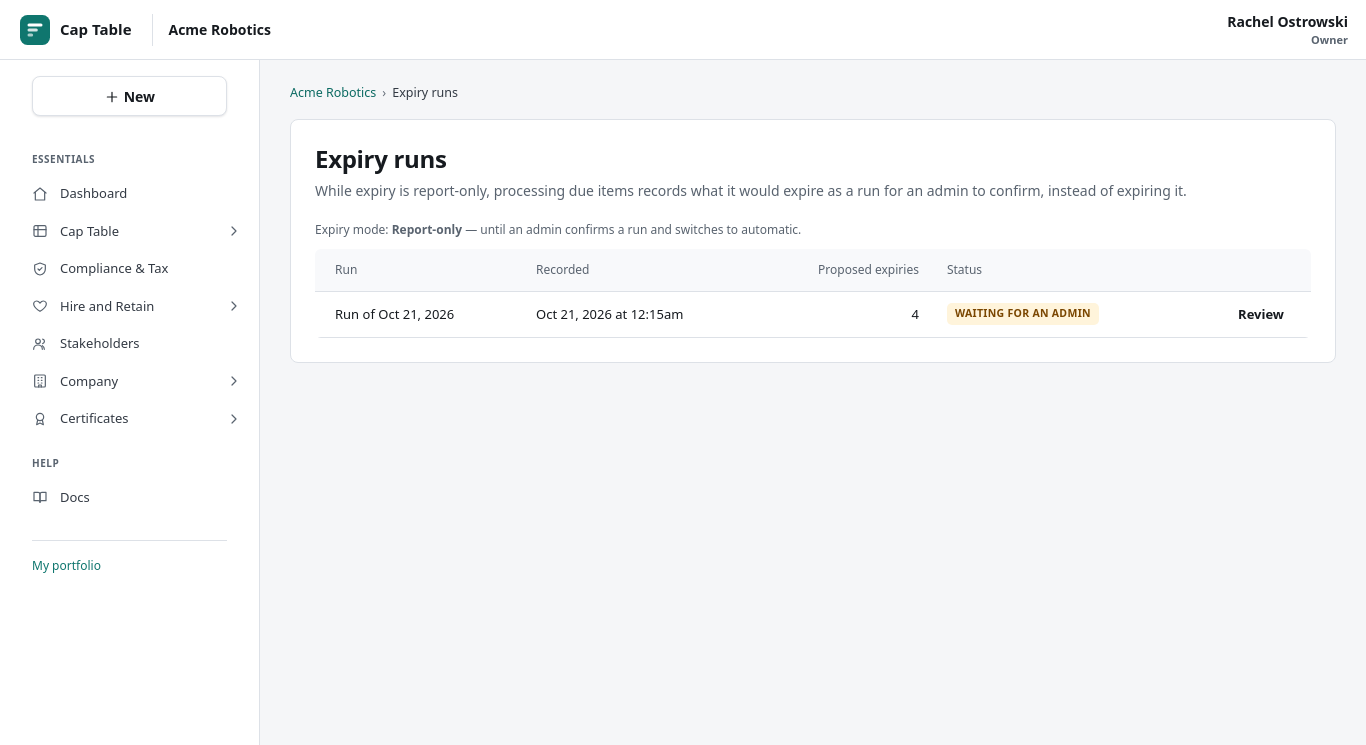
expiry runs: confirming a run › shows refusals that name securities on their rows, and leaves them out on request
The width and height of the screenshot is (1366, 745).
Click the button with aria-label "Review the run of Oct 21, 2026": (1261, 314) [1225,298,1297,330]
(page scrolled)
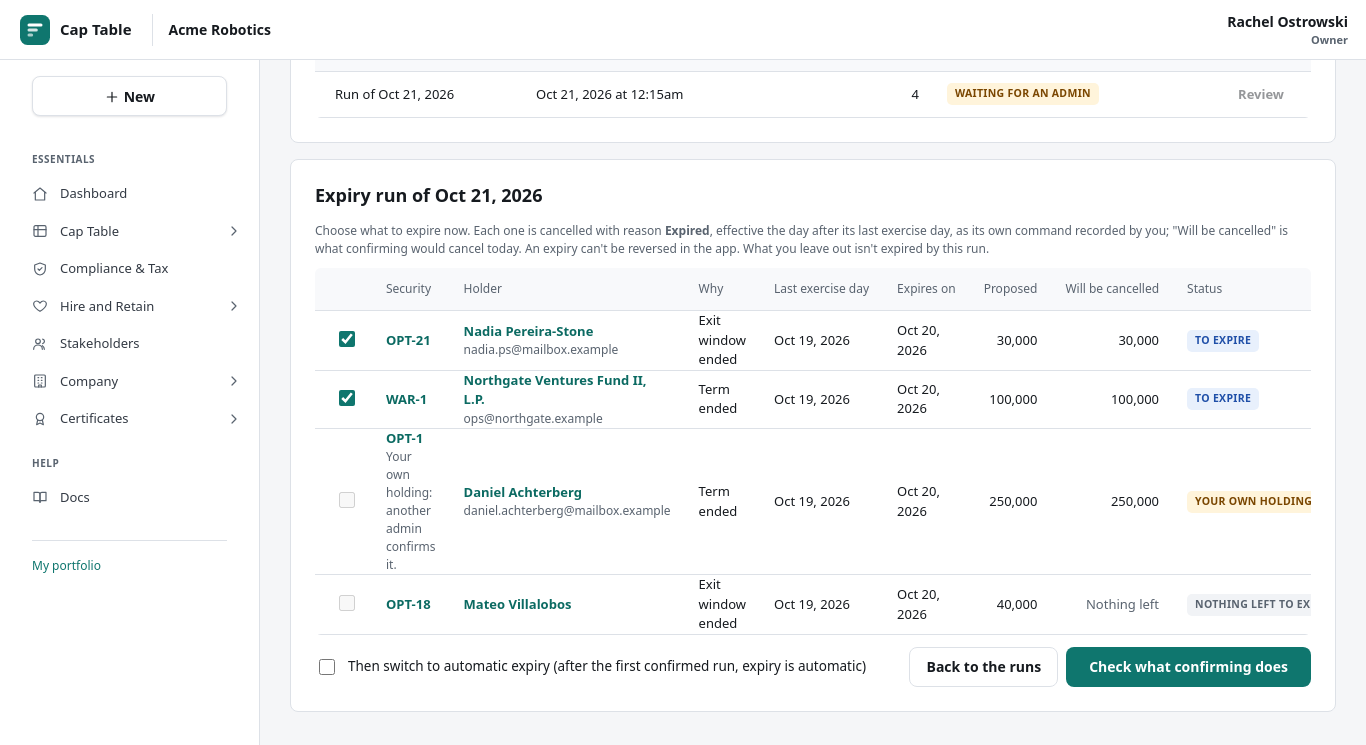
Click the button "Check what confirming does": (1189, 667) [1066,647,1311,687]
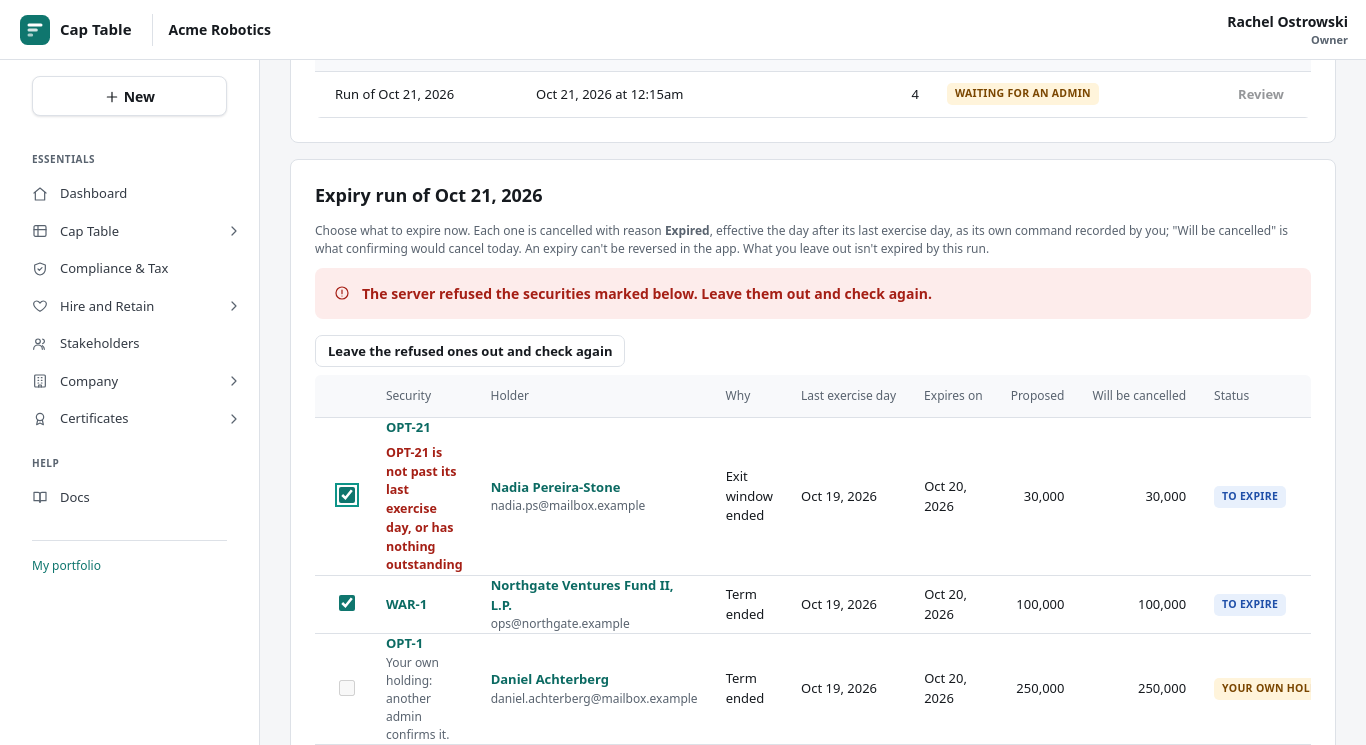
expect the text "The server refused the securities marked below. Leave them out and check again." is shown: met, box [362,284,932,303]
expect the row that starts with "OPT-21" shows "OPT-21 is not past its last exercise day, or has nothing outstanding": met, box [386,444,463,573]
Click the button "Leave the refused ones out and check again": (470, 351) [315,335,625,367]
(page scrolled)
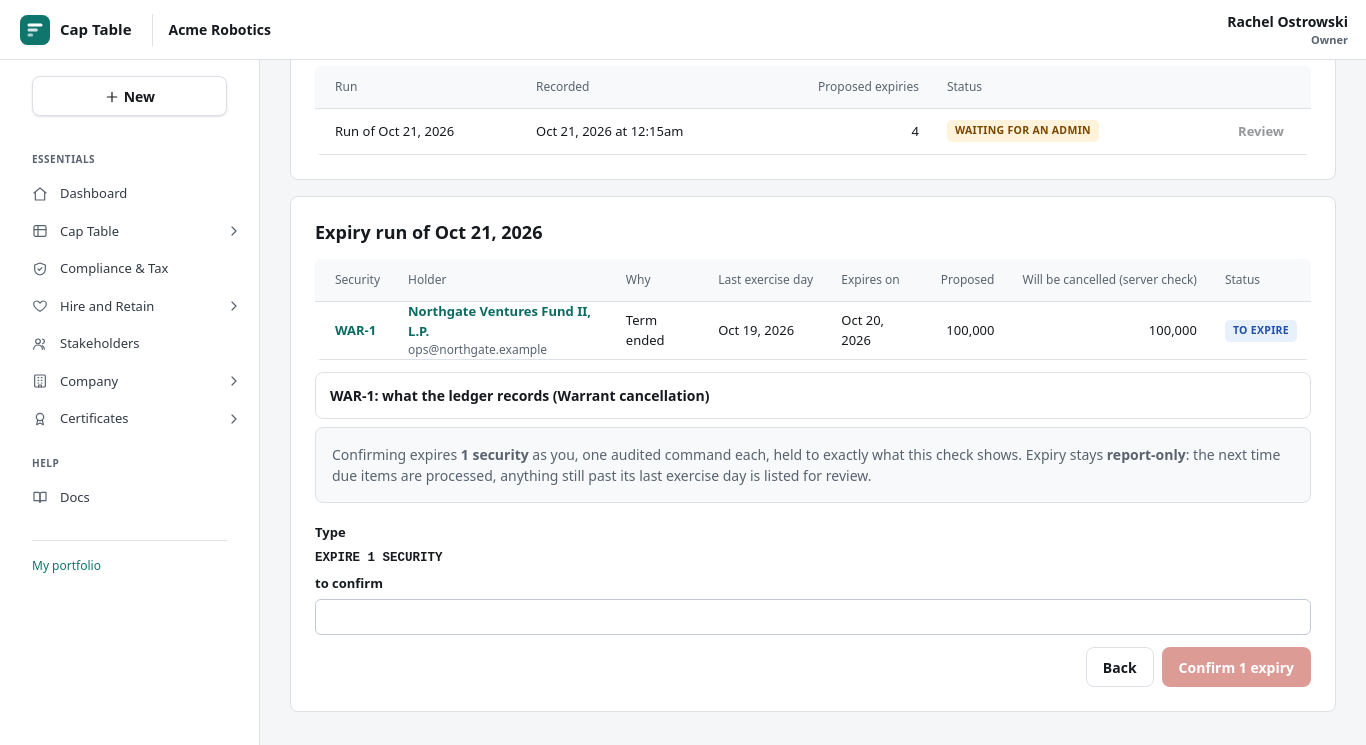
expect the button "Confirm 1 expiry" is shown: met, box [1162,647,1311,687]
expect the element labelled "Type EXPIRE 1 SECURITY to confirm" is shown: met, box [315,523,1311,635]
